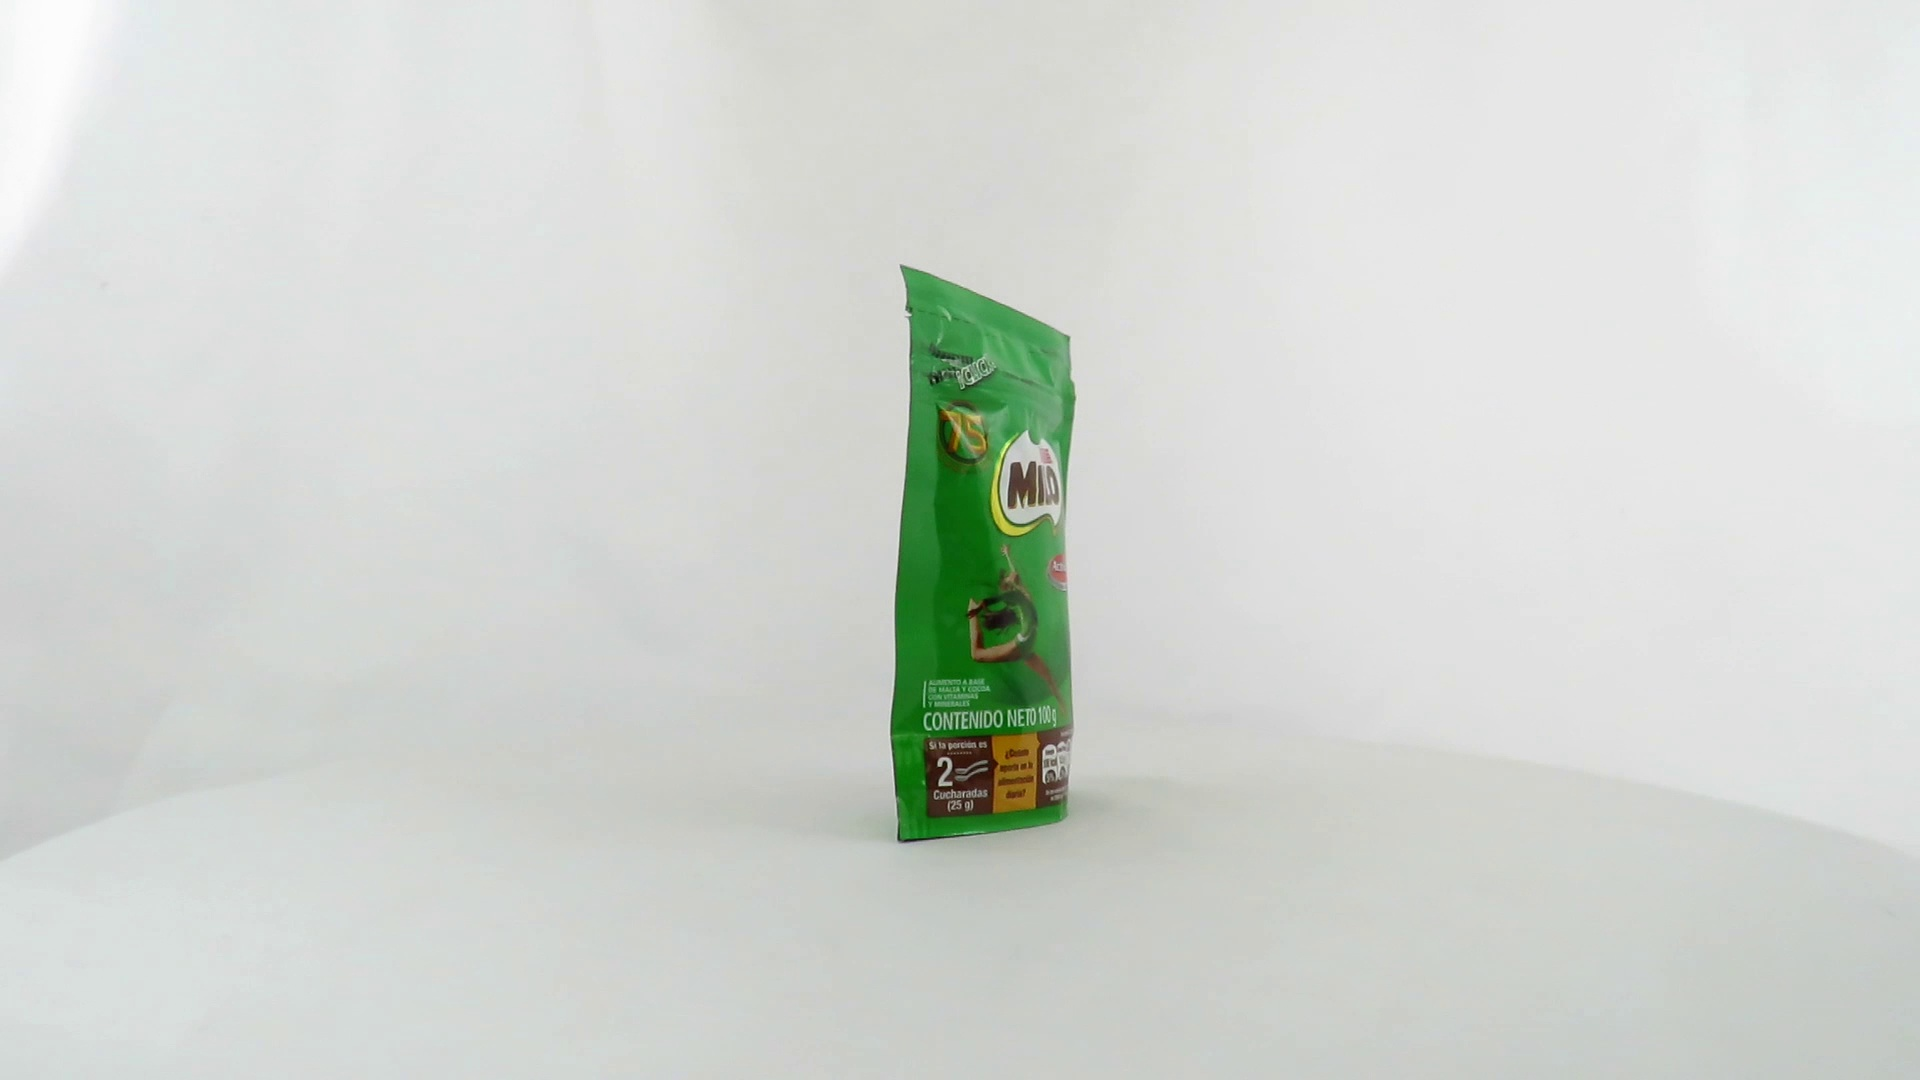COL0170203DYP10000: (885, 258, 1083, 851)
